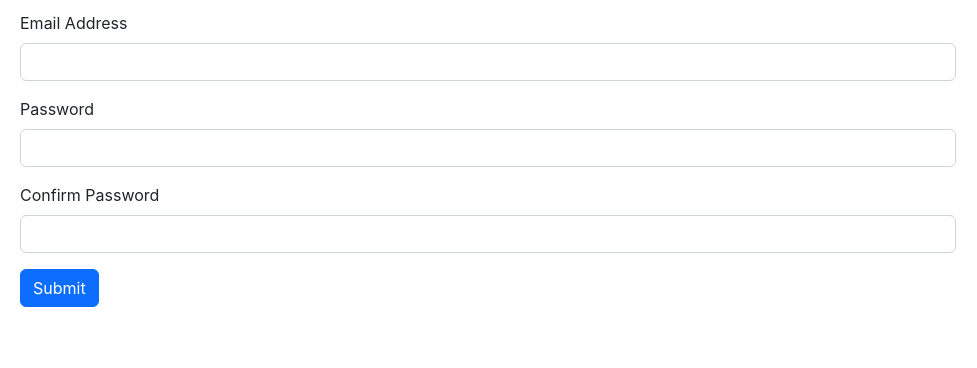
Test case: Testing Form Component › the confirm-password should match with the password
Expected: the text "confirm password didn't match." is not shown
In the field: (488, 62) [20,43,956,81], type "valid@gmail.com"
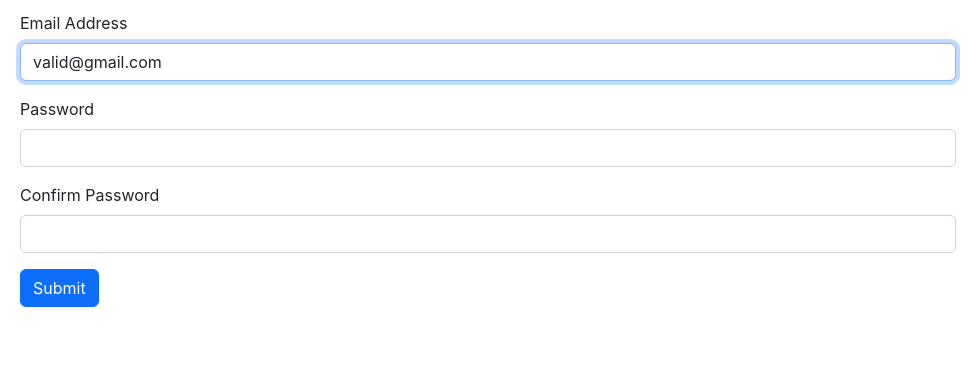
In the password field labelled "Password": (488, 148) [20,129,956,167], type "1234567"
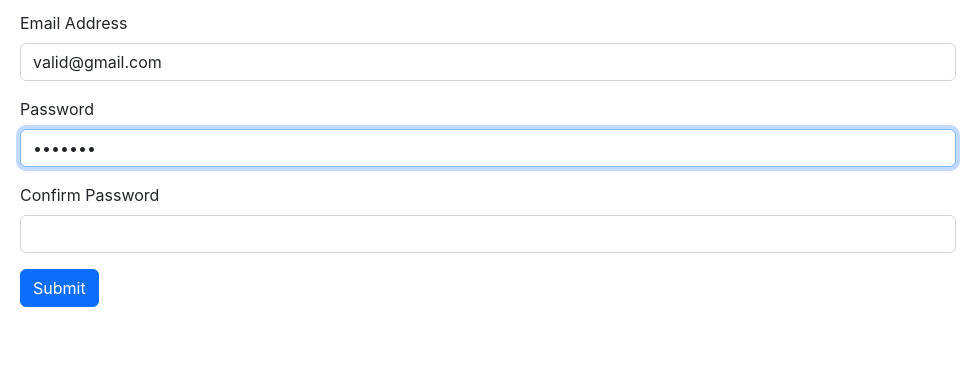
In the password field labelled "Confirm Password": (488, 234) [20,215,956,253], type "12345"
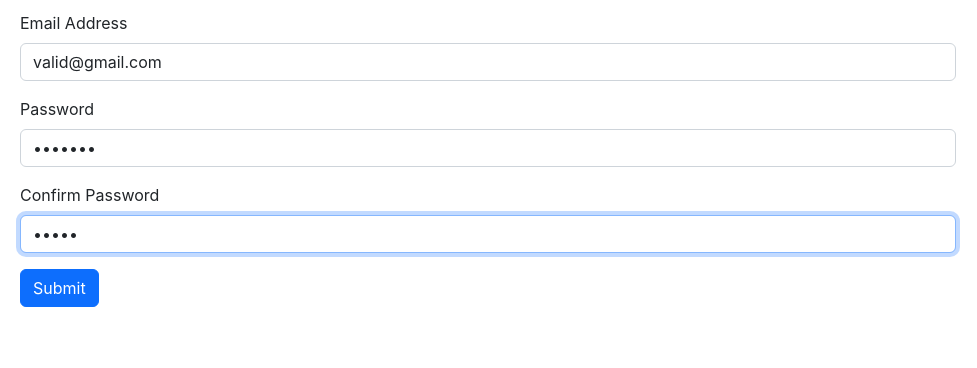
Click the button: (59, 288) [20,269,99,307]
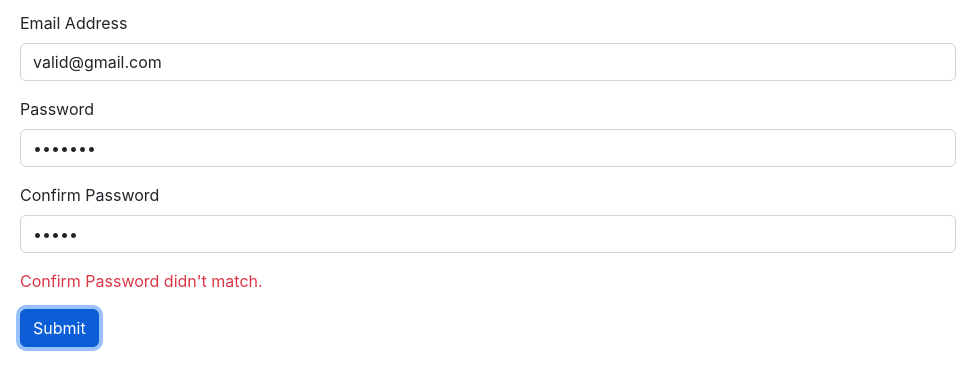
Expected: the text "Confirm Password didn't match." is shown, [20,271,263,291]
In the password field labelled "Confirm Password": (488, 234) [20,215,956,253], type "1234567"
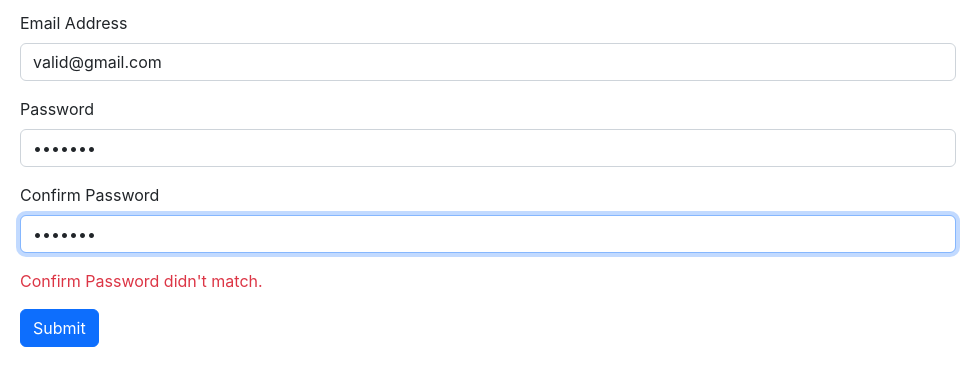
Click the button: (59, 328) [20,309,99,347]
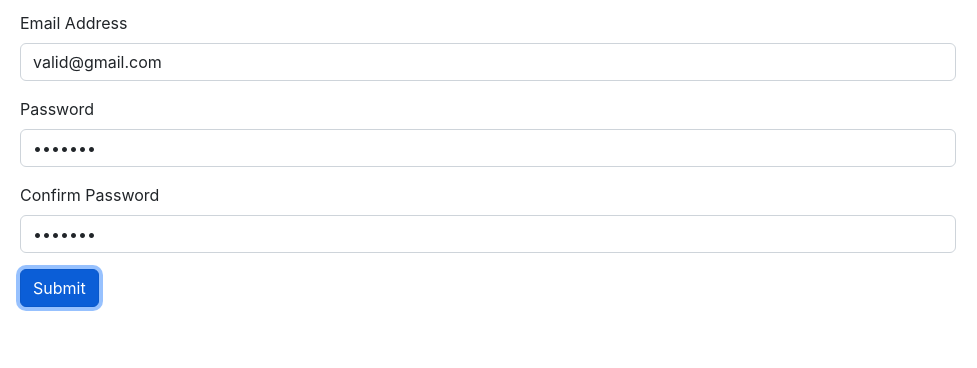
Expected: the text "Confirm Password didn't match." is gone
